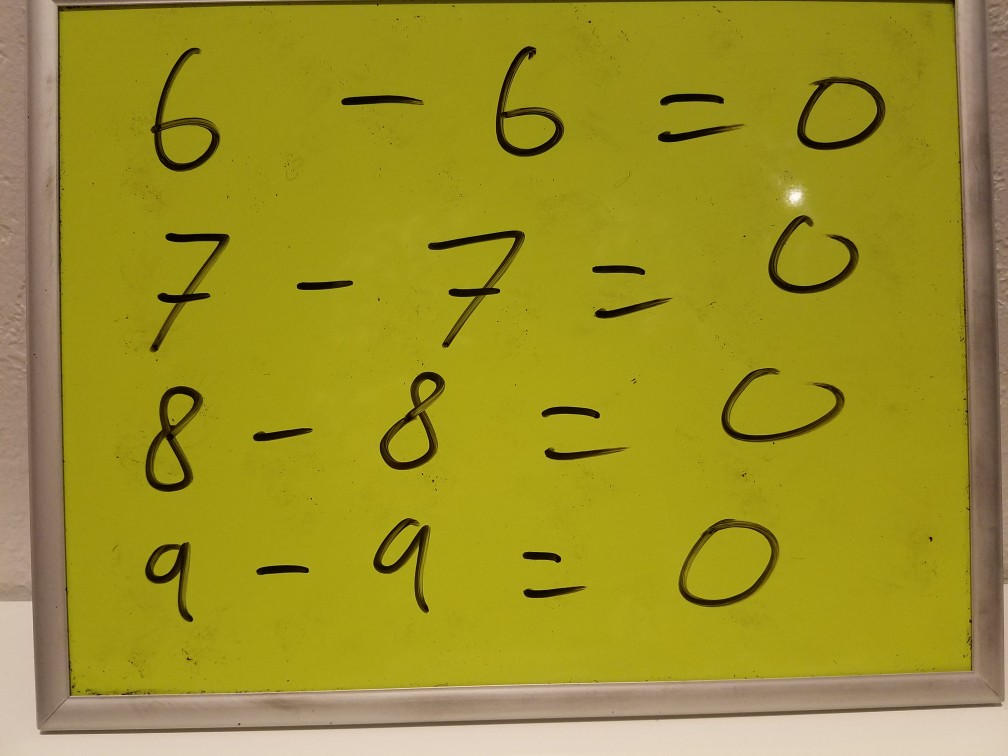-: (330, 71, 432, 135), (283, 258, 364, 307), (239, 415, 322, 452), (252, 545, 315, 588)
0: (711, 360, 852, 450), (670, 511, 791, 612), (753, 204, 869, 300), (788, 68, 897, 157)
6: (141, 34, 239, 182), (481, 38, 576, 165)
7: (417, 218, 532, 351), (139, 220, 234, 359)
8: (374, 362, 453, 482), (133, 380, 204, 500)
9: (365, 512, 445, 621), (134, 533, 205, 632)
=: (642, 77, 751, 153), (577, 253, 688, 326), (526, 397, 636, 468), (511, 539, 598, 607)
